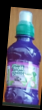blueberries: (5, 10, 40, 106)
